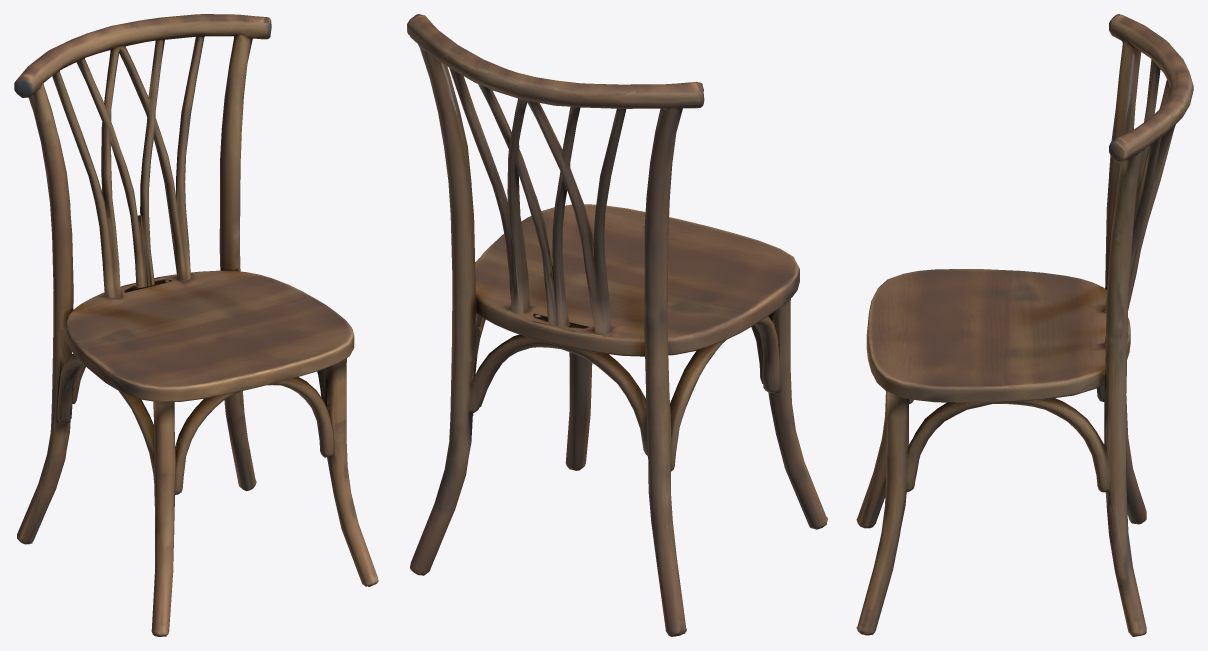
Rendered from willow_chair_0125201214_texture.glb.
The picture shows the model from 3 angles, left to right: view 1: azimuth 30°, elevation 25°; view 2: azimuth 150°, elevation 25°; view 3: azimuth 270°, elevation 25°; orthographic projection. The views are drawn at different scales.
Visible parts, largest first — view 1: Mesh_0.001; view 2: Mesh_0.001; view 3: Mesh_0.001.
Boxes of the visible parts, x1=… form: Mesh_0.001: x1=14, y1=14, x2=378, y2=636; Mesh_0.001: x1=407, y1=14, x2=827, y2=636; Mesh_0.001: x1=856, y1=14, x2=1193, y2=636.
Size of the model in its own units: 0.4841 by 0.8636 by 0.5231.
Materials: 1 (1 with a texture image).
